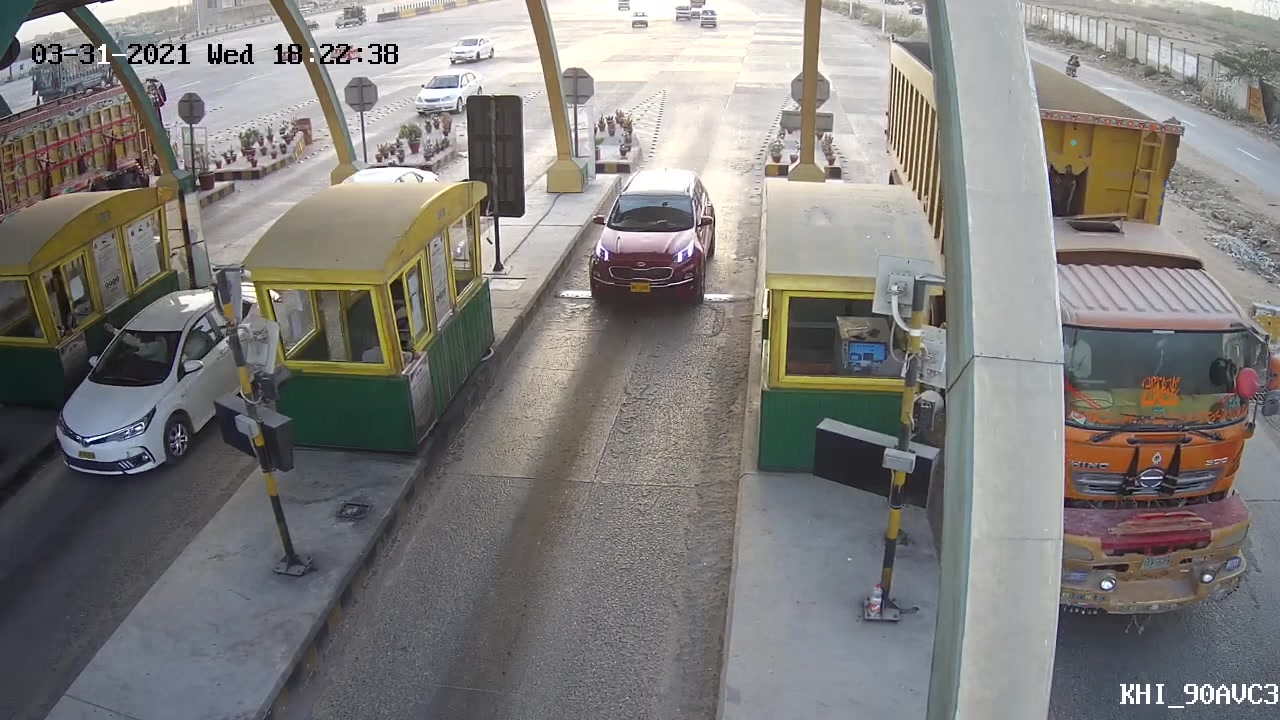F1: (580, 164, 720, 306)
